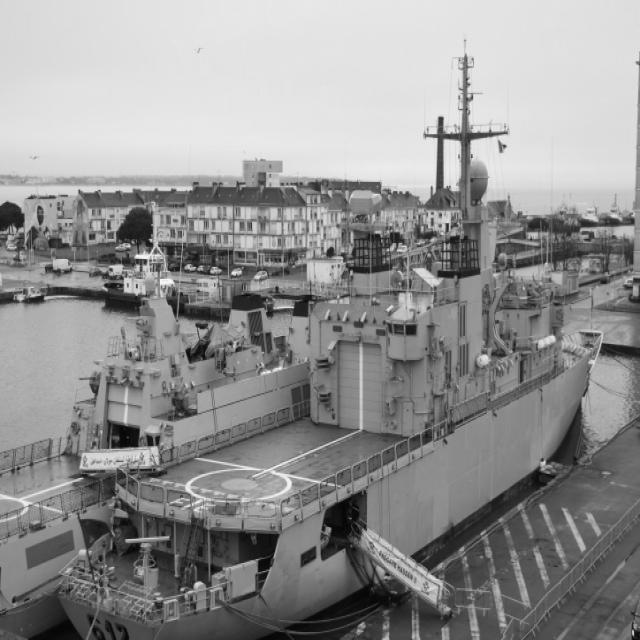Fragata: (53, 31, 605, 640)
